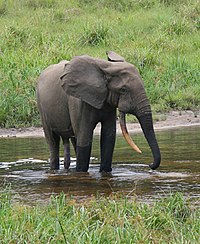elephant: (33, 48, 166, 176)
